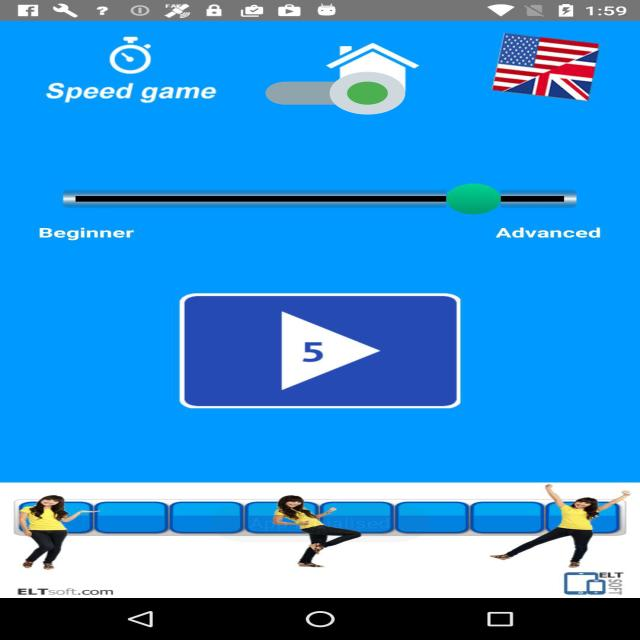social proof: (266, 54, 406, 132)
